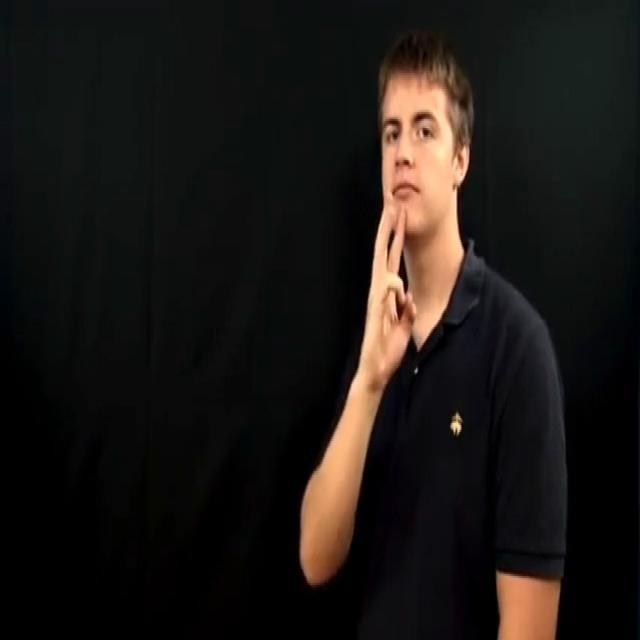water: (353, 188, 422, 390)
